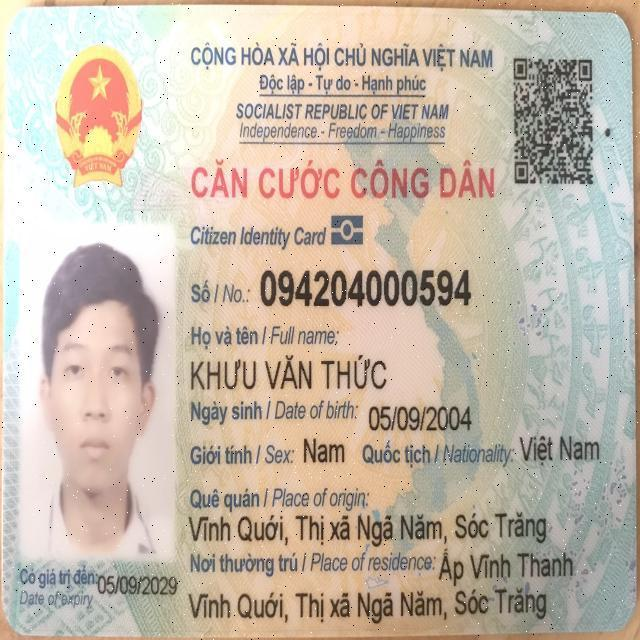current_place: (186, 586, 549, 626), (437, 546, 574, 589)
dob: (367, 401, 474, 435)
expire_date: (96, 571, 179, 599)
gender: (301, 435, 346, 467)
id: (258, 264, 474, 310)
name: (189, 352, 388, 395)
nationality: (518, 434, 602, 468)
origin_place: (187, 509, 547, 548)
